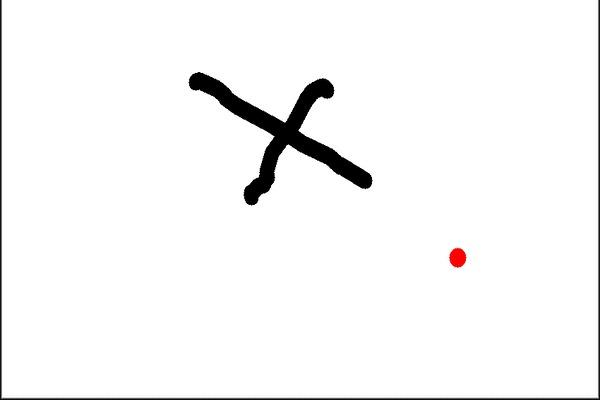Z: (165, 54, 381, 234)
